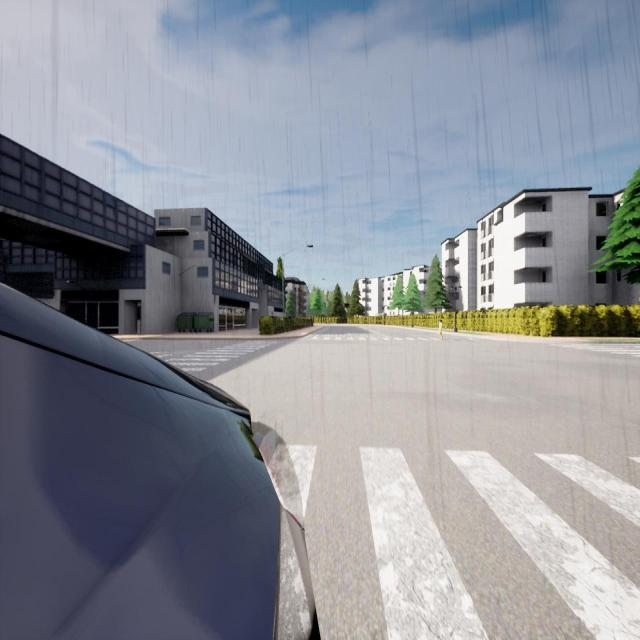Pedestrian: (438, 319, 444, 340)
Vehicle: (0, 284, 320, 637)
